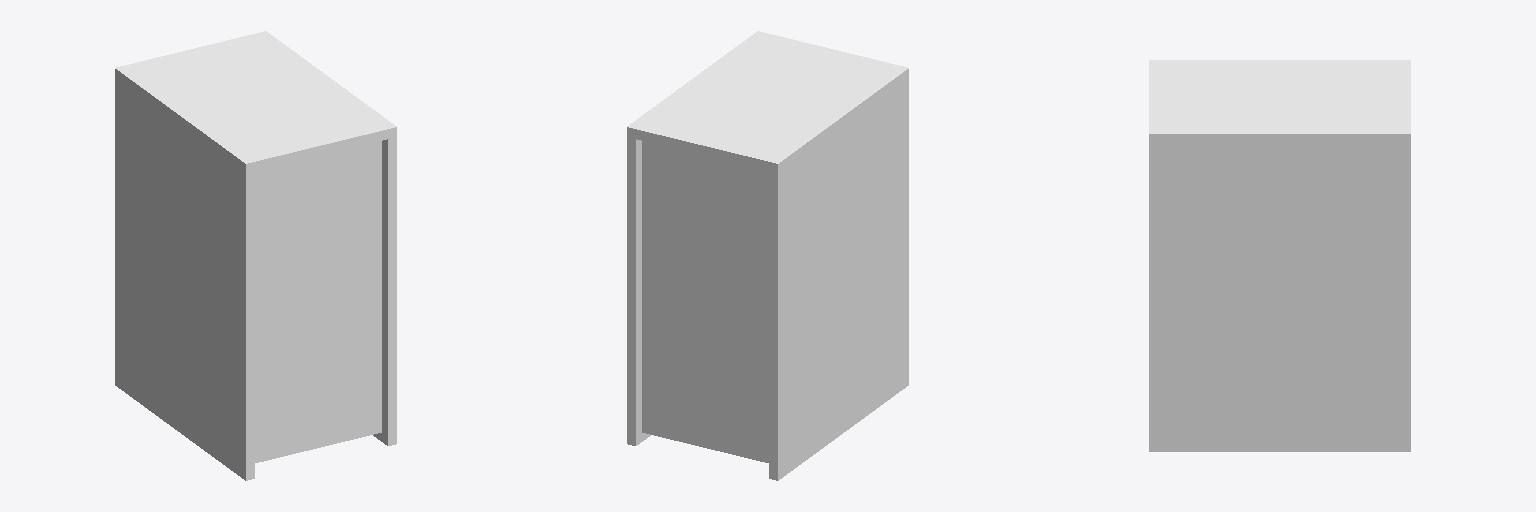
The model's file is ServerRack-1.obj.
3 views of the same model, side by side, from view 1: azimuth 30°, elevation 25°; view 2: azimuth 150°, elevation 25°; view 3: azimuth 270°, elevation 25° (orthographic).
Parts seen in each view (by area): view 1: ServerRack-1; view 2: ServerRack-1; view 3: ServerRack-1.
Part boxes in pixels (left/top/right/bottom): ServerRack-1: left=115, top=31, right=396, bottom=480; ServerRack-1: left=627, top=31, right=908, bottom=480; ServerRack-1: left=1149, top=60, right=1410, bottom=451.
Bounding box in the file's own units: 16 × 32 × 24.